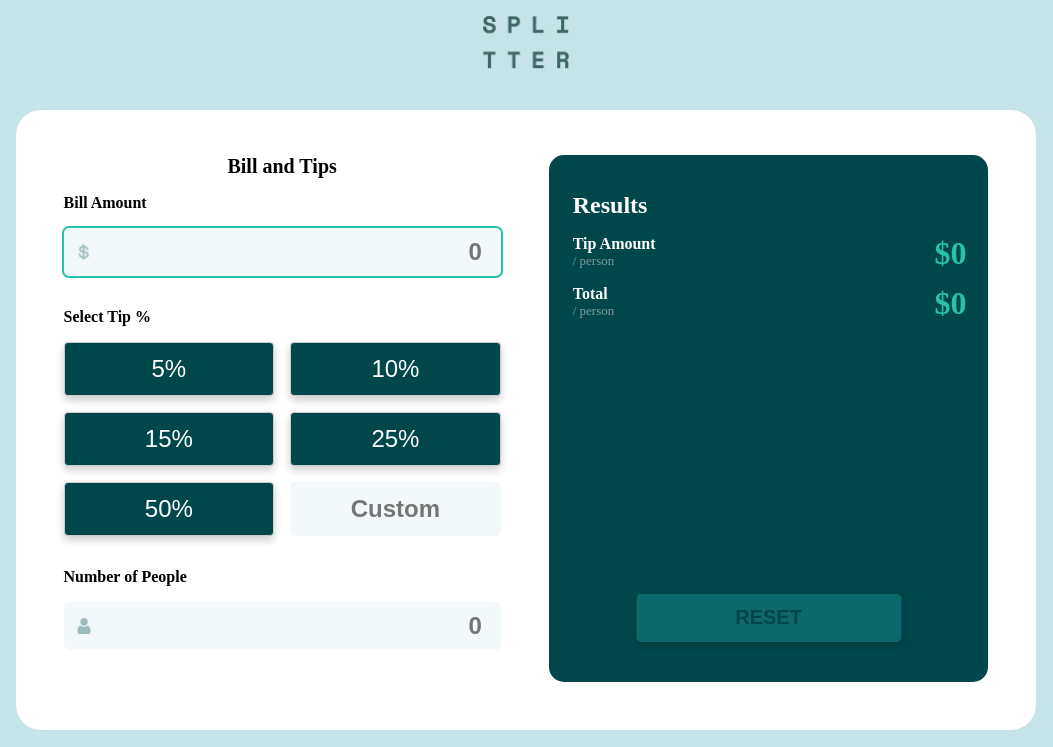
Scenario: Filling in everything gives the correct value
Type "142.55" into the field named "billAmount" at (282, 252), box 64,228 -> 501,276
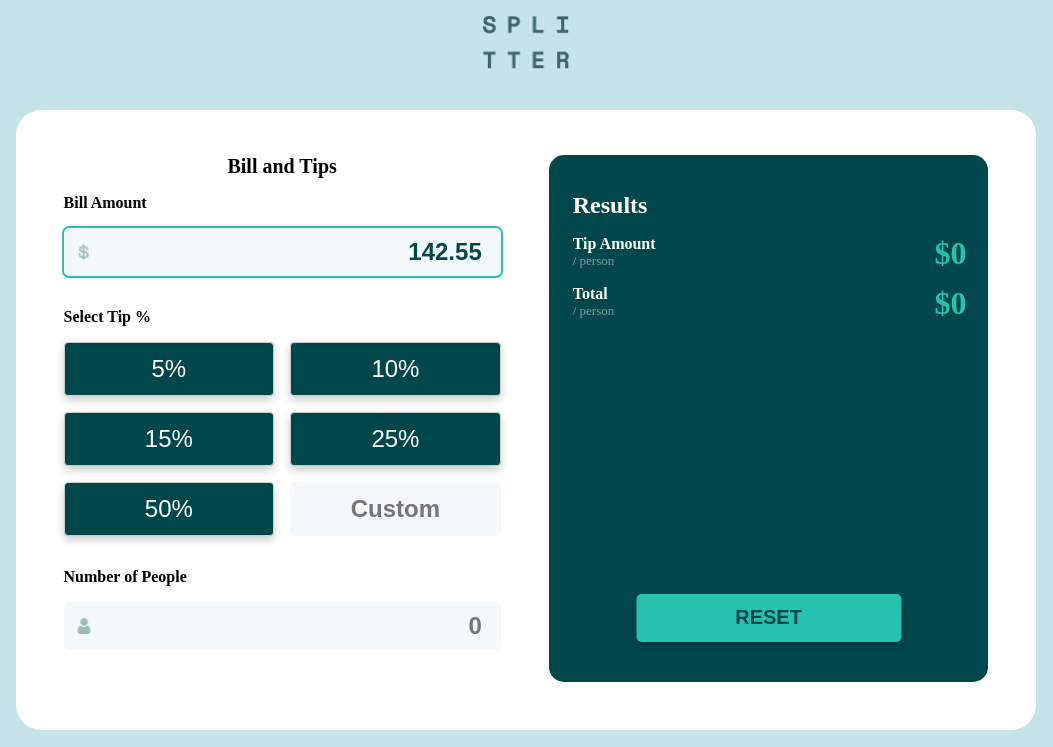
Type "15" into the field named "Custom Tip Percentage" at (395, 509), box 290,482 -> 501,536
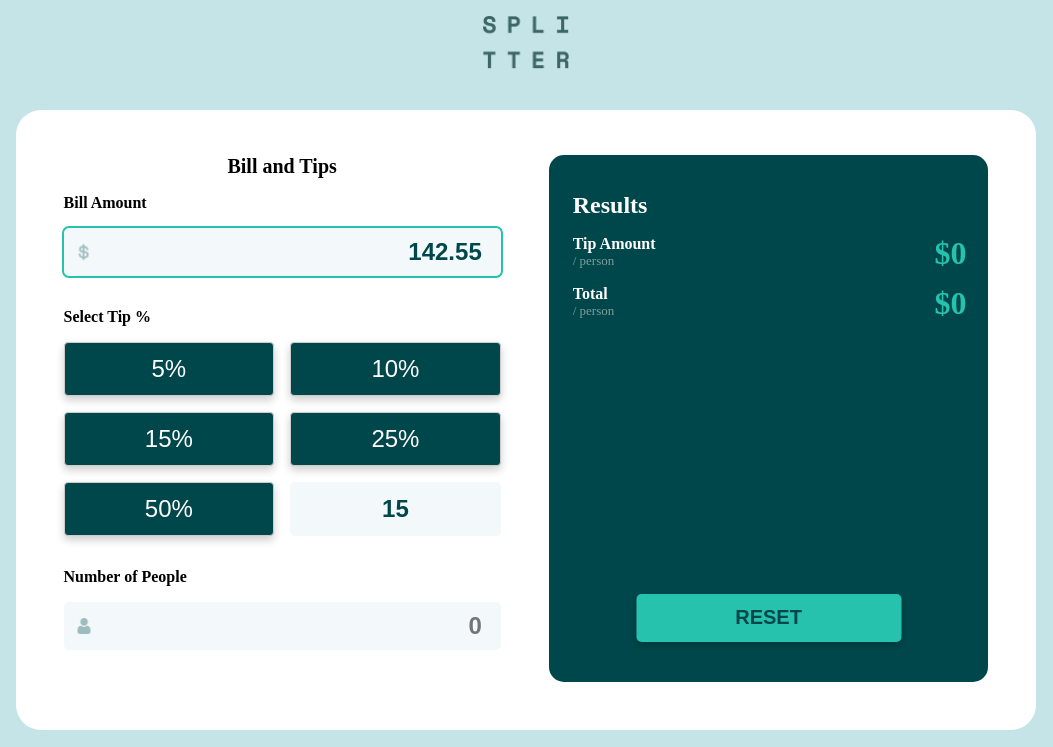
Type "5" into the field labelled "Number of People" at (282, 626), box 64,602 -> 501,650
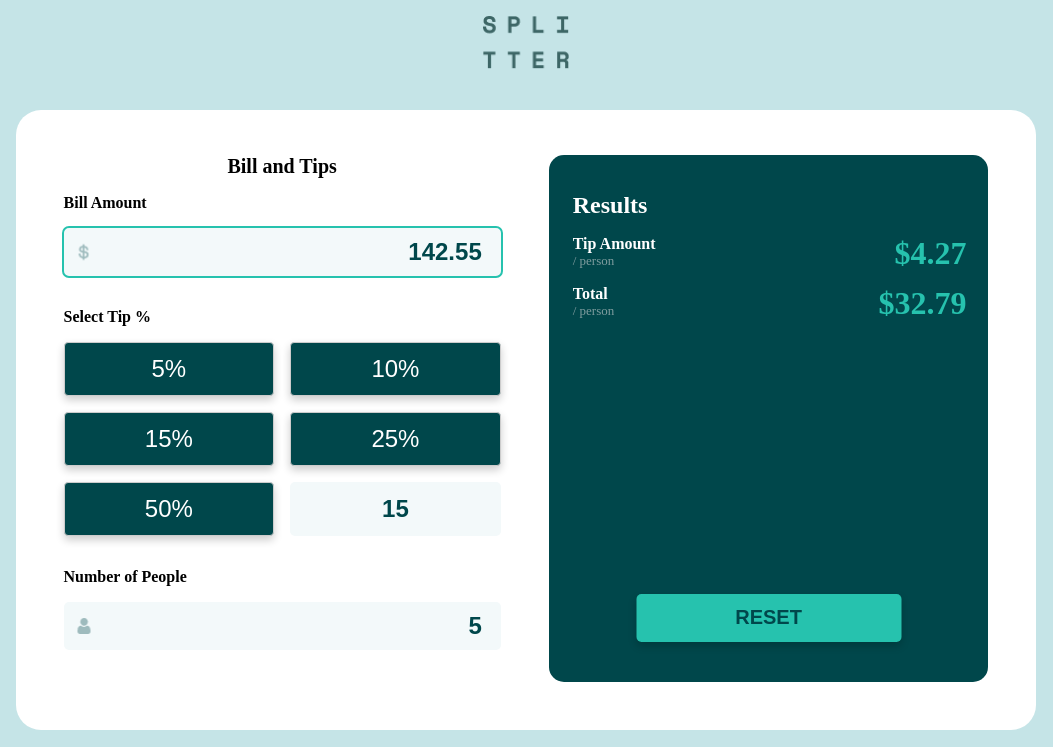
Expected: the text named "tip per person" reads "$4.27", 894,235 -> 966,272
Expected: the text named "total per person" reads "$32.79", 878,285 -> 966,322
